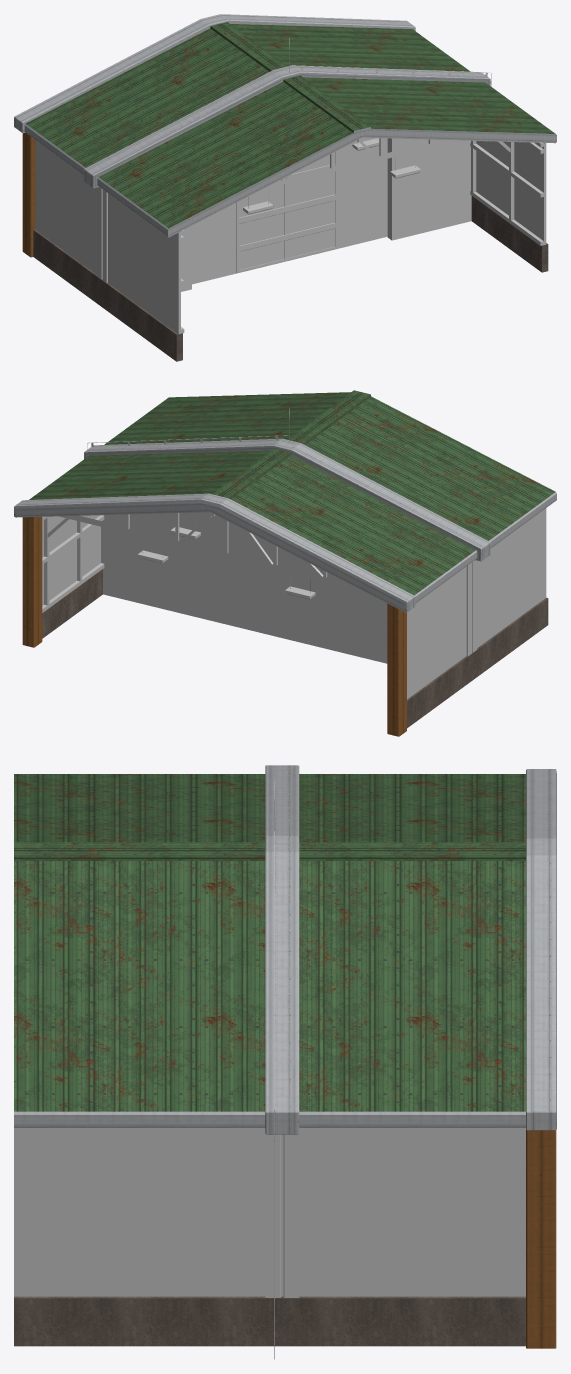
File: Hangar01.fbx
The picture shows the model from 3 angles, top to bottom: view 1: azimuth 30°, elevation 25°; view 2: azimuth 150°, elevation 25°; view 3: azimuth 270°, elevation 25°; orthographic projection. The views are drawn at different scales.
Visible parts, largest first — view 1: Hangar01WallModule, Hangar01FrontModule, Hangar01BackModule, Hangar01DoorB, Hangar01DoorA; view 2: Hangar01WallModule, Hangar01BackModule, Hangar01FrontModule; view 3: Hangar01WallModule, Hangar01FrontModule, Hangar01BackModule.
Boxes of the visible parts, x1=… form: Hangar01WallModule: x1=14, y1=14, x2=556, y2=361; Hangar01FrontModule: x1=85, y1=38, x2=491, y2=291; Hangar01BackModule: x1=84, y1=65, x2=487, y2=284; Hangar01DoorB: x1=236, y1=150, x2=337, y2=273; Hangar01DoorA: x1=239, y1=164, x2=335, y2=257; Hangar01WallModule: x1=14, y1=390, x2=556, y2=736; Hangar01BackModule: x1=84, y1=439, x2=488, y2=663; Hangar01FrontModule: x1=86, y1=408, x2=490, y2=652; Hangar01WallModule: x1=14, y1=769, x2=556, y2=1348; Hangar01FrontModule: x1=265, y1=765, x2=292, y2=1359; Hangar01BackModule: x1=272, y1=765, x2=299, y2=1297.
Bounding box in the file's own units: 32.48 × 17.94 × 21.31.
